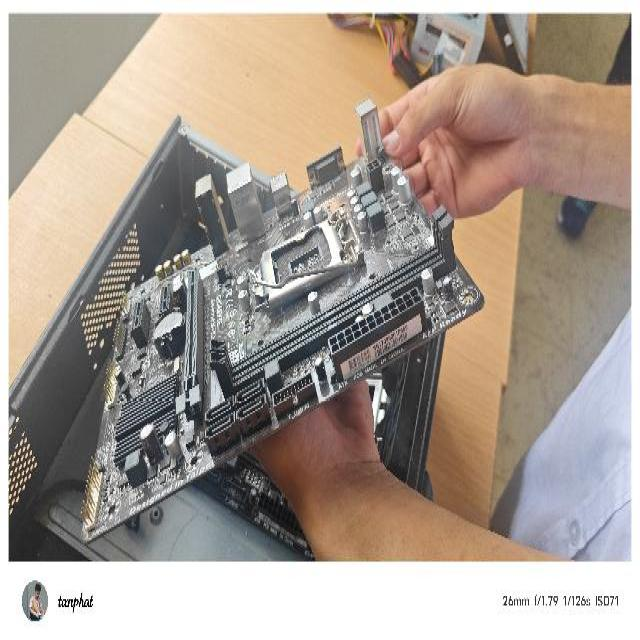Mainboard: (82, 151, 484, 542)
